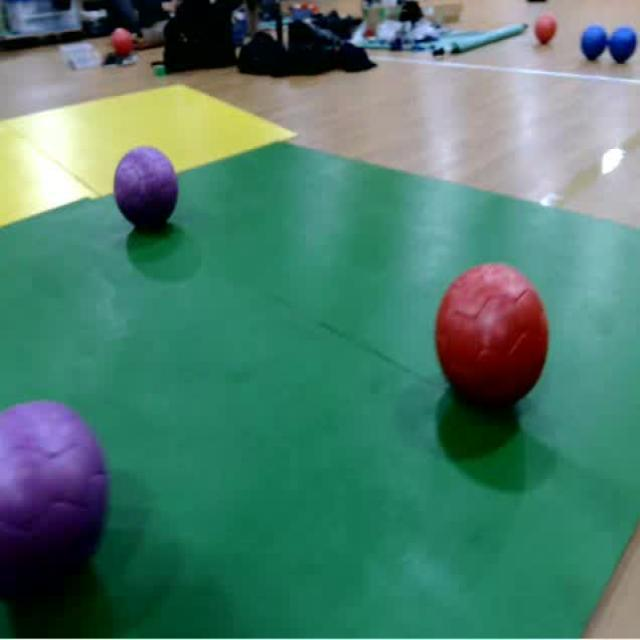blue_ball: (607, 26, 638, 66), (576, 20, 605, 61)
purple_ball: (0, 396, 113, 605), (112, 147, 180, 233)
red_ball: (436, 264, 552, 418), (534, 15, 560, 48)
